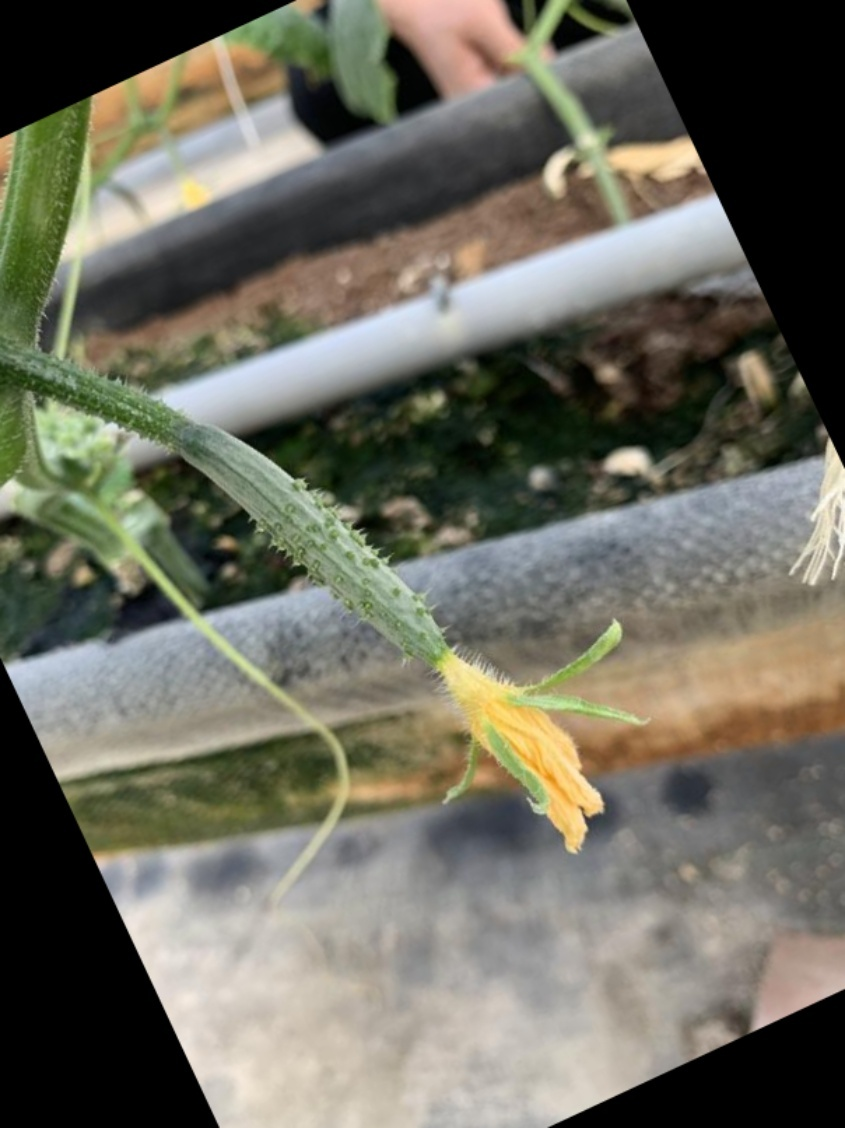bear: (201, 420, 632, 872)
